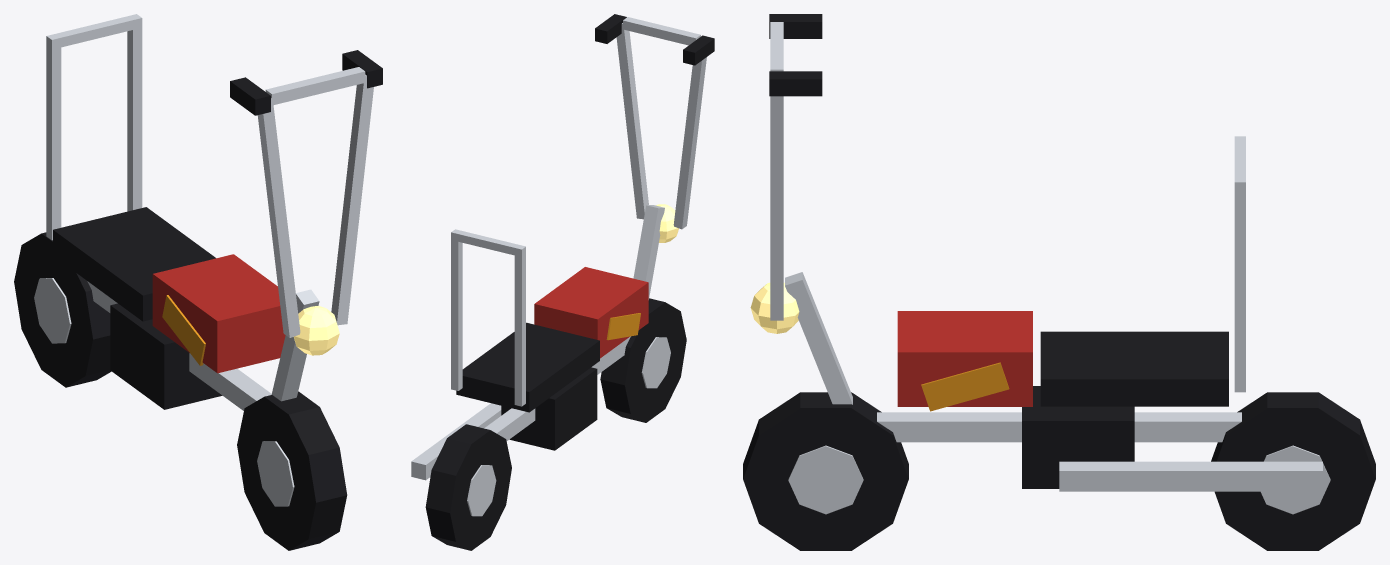
File: chopper_moped.glb
The picture shows the model from 3 angles, left to right: view 1: azimuth 30°, elevation 25°; view 2: azimuth 150°, elevation 25°; view 3: azimuth 270°, elevation 25°; orthographic projection. The views are drawn at different scales.
Visible parts, largest first — view 1: wheels_tire, tank_moped_red, bars_chrome, seat_moped_black, sissy_chrome, engine_moped_black, frame_chrome, wheels_chrome, bars_moped_black, lights_moped_light, flames_moped_flame; view 2: wheels_tire, seat_moped_black, bars_chrome, tank_moped_red, sissy_chrome, engine_moped_black, frame_chrome, wheels_chrome, exhaust_chrome, bars_moped_black, flames_moped_flame, lights_moped_light; view 3: wheels_tire, seat_moped_black, tank_moped_red, frame_chrome, exhaust_chrome, engine_moped_black, wheels_chrome, bars_chrome, sissy_chrome, bars_moped_black, flames_moped_flame, lights_moped_light.
Boxes of the visible parts, x1,y1,x2,y2 form: wheels_tire: [14, 232, 347, 550]; tank_moped_red: [152, 254, 285, 373]; bars_chrome: [257, 67, 373, 337]; seat_moped_black: [53, 207, 215, 321]; sissy_chrome: [46, 14, 142, 240]; engine_moped_black: [110, 303, 222, 409]; frame_chrome: [87, 281, 319, 410]; wheels_chrome: [34, 278, 294, 506]; bars_moped_black: [230, 50, 382, 115]; lights_moped_light: [294, 305, 339, 355]; flames_moped_flame: [162, 295, 205, 365]; wheels_tire: [425, 298, 686, 550]; seat_moped_black: [456, 322, 599, 412]; bars_chrome: [616, 17, 706, 229]; tank_moped_red: [534, 267, 648, 358]; sissy_chrome: [451, 229, 525, 406]; engine_moped_black: [501, 367, 597, 450]; frame_chrome: [484, 205, 664, 440]; wheels_chrome: [467, 337, 670, 516]; exhaust_chrome: [411, 403, 501, 480]; bars_moped_black: [595, 14, 714, 65]; flames_moped_flame: [606, 313, 640, 340]; lights_moped_light: [656, 204, 678, 242]; wheels_tire: [743, 392, 1375, 550]; seat_moped_black: [1040, 331, 1228, 406]; tank_moped_red: [897, 311, 1032, 406]; frame_chrome: [785, 272, 1241, 442]; exhaust_chrome: [1059, 461, 1322, 491]; engine_moped_black: [1022, 386, 1134, 488]; wheels_chrome: [788, 445, 1330, 514]; bars_chrome: [770, 22, 783, 320]; sissy_chrome: [1234, 136, 1245, 392]; bars_moped_black: [769, 14, 822, 96]; flames_moped_flame: [921, 362, 1009, 411]; lights_moped_light: [750, 282, 799, 333].
Size of the model in its own units: 0.41 by 1.46 by 1.68.
